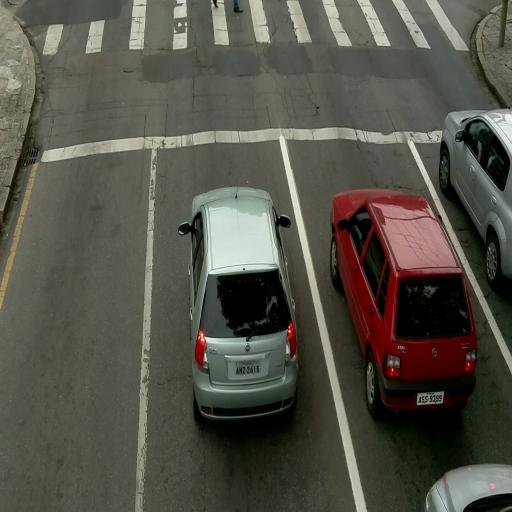car: (328, 192, 477, 417), (182, 189, 300, 423), (438, 107, 512, 287), (422, 459, 512, 512)
